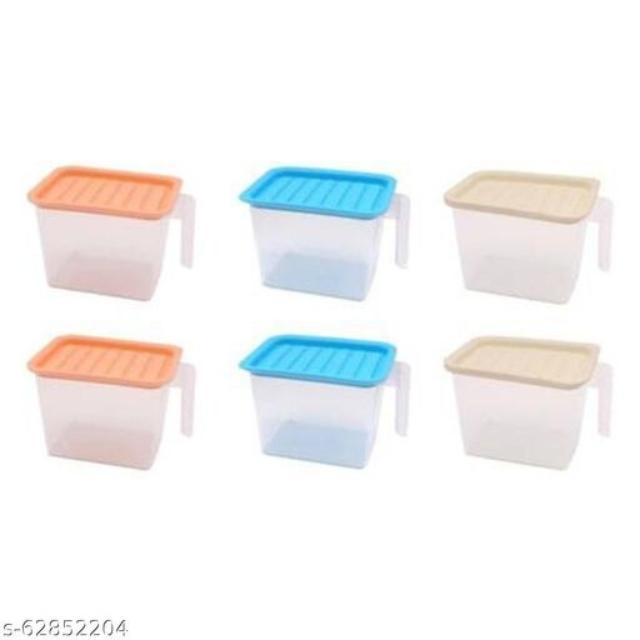plastic: (444, 171, 598, 303), (241, 335, 393, 468), (29, 335, 181, 468), (444, 337, 598, 468), (241, 168, 393, 299), (29, 167, 179, 299)
